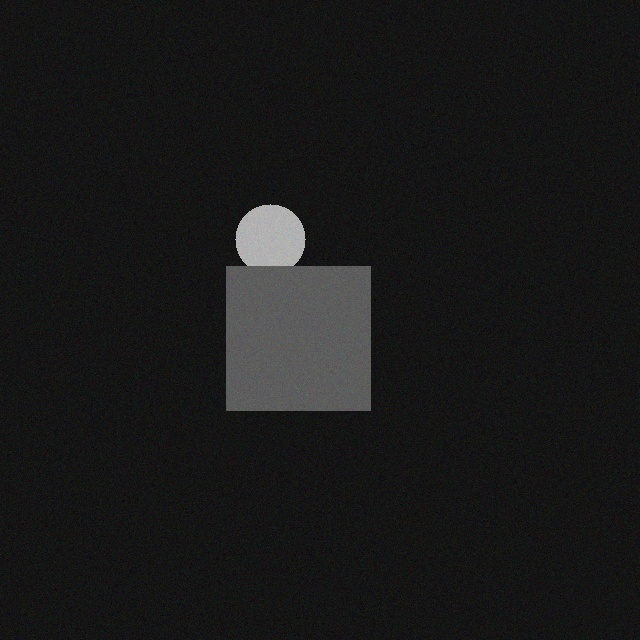circle: (229, 210, 299, 280)
square: (220, 272, 364, 416)
